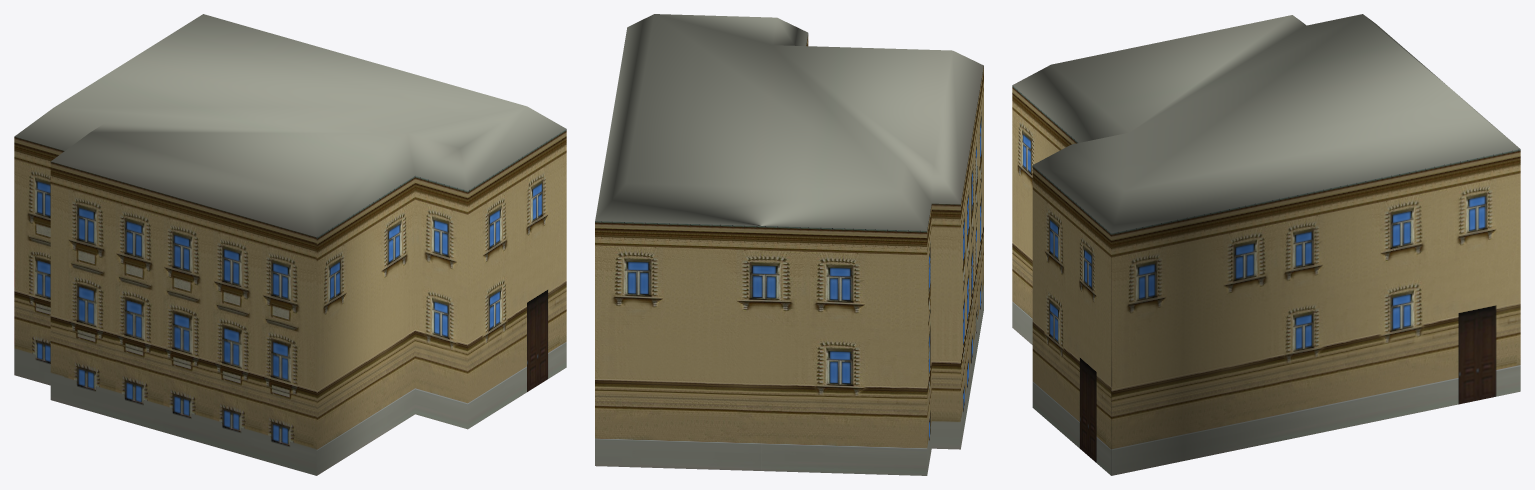
File: lp-building3.fbx
3 renders of one model, left to right at view 1: azimuth 30°, elevation 25°; view 2: azimuth 150°, elevation 25°; view 3: azimuth 270°, elevation 25°, orthographic. The views are drawn at different scales.
Parts seen in each view (by area): view 1: 01houses.032; view 2: 01houses.032; view 3: 01houses.032.
Part boxes in pixels (x1,y1,x2,y2): 01houses.032: (14,14,566,475); 01houses.032: (595,14,983,475); 01houses.032: (1012,14,1520,475).
Bounding box in the file's own units: 677 × 405 × 694.
1 material, 1 textured.
